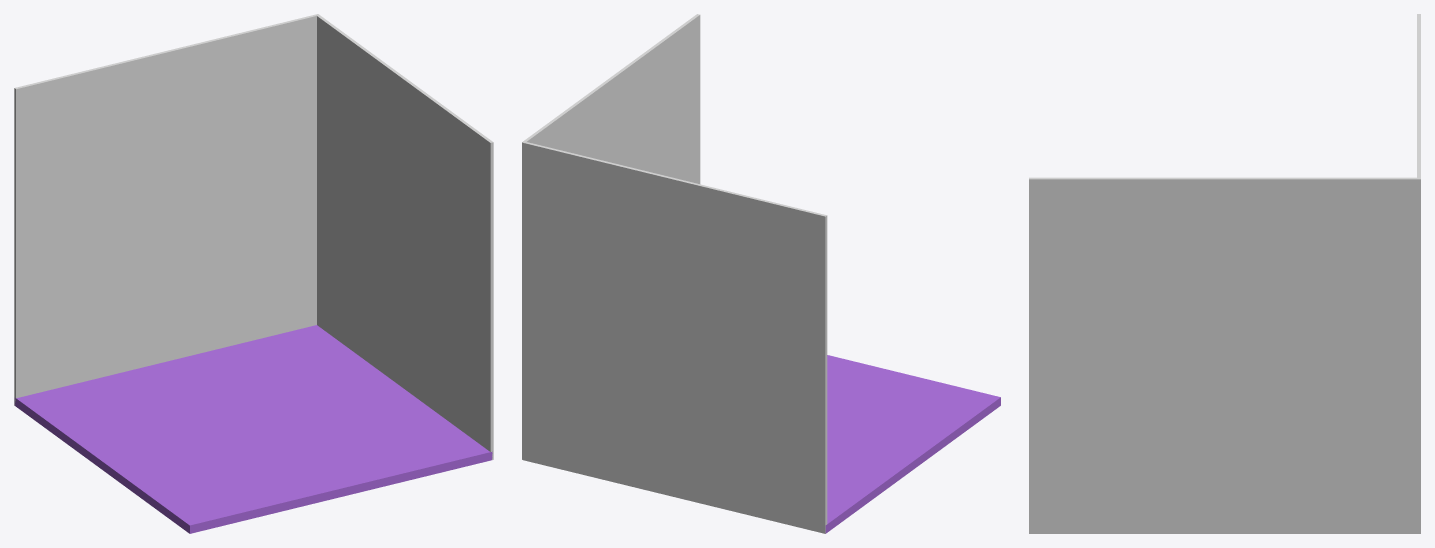
Rendered from room.glb.
3 views of the same model, side by side, from view 1: azimuth 30°, elevation 25°; view 2: azimuth 150°, elevation 25°; view 3: azimuth 270°, elevation 25° (orthographic). The views are drawn at different scales.
Parts seen in each view (by area): view 1: Wall2, Wall, Floor; view 2: Wall2, Floor, Wall; view 3: Wall, Wall2.
Boxes of the visible parts, x1,y1,x2,y2 form: Wall2: (14,14,317,405); Wall: (315,14,493,459); Floor: (14,325,492,533); Wall2: (522,142,827,533); Floor: (825,355,1000,533); Wall: (522,14,700,459); Wall: (1029,177,1420,533); Wall2: (1417,14,1420,533).
Size of the model in its own units: 6.01 by 6 by 6.01.
